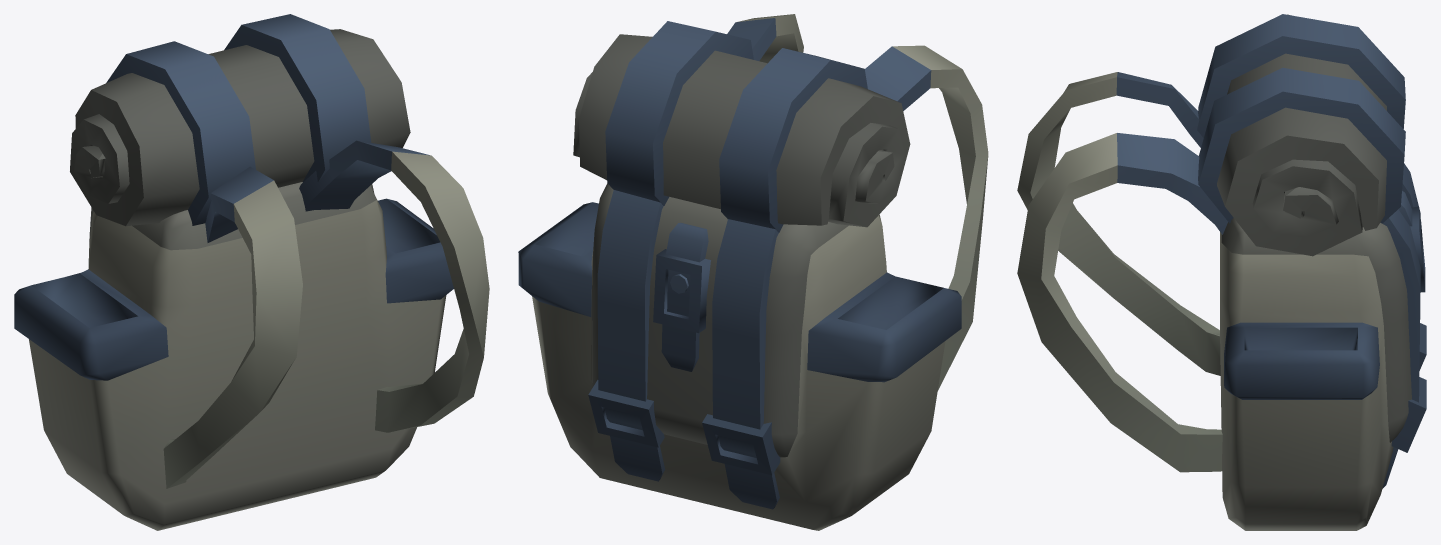
Rendered from Bag_10.fbx.
The picture shows the model from 3 angles, left to right: view 1: azimuth 30°, elevation 25°; view 2: azimuth 150°, elevation 25°; view 3: azimuth 270°, elevation 25°; orthographic projection. The views are drawn at different scales.
Visible parts, largest first — view 1: Bag_10; view 2: Bag_10; view 3: Bag_10.
Boxes of the visible parts, x1=… form: Bag_10: x1=14, y1=14, x2=489, y2=530; Bag_10: x1=518, y1=14, x2=988, y2=530; Bag_10: x1=1017, y1=14, x2=1426, y2=530.
Bounding box in the file's own units: 63.48 × 70.11 × 60.83.
